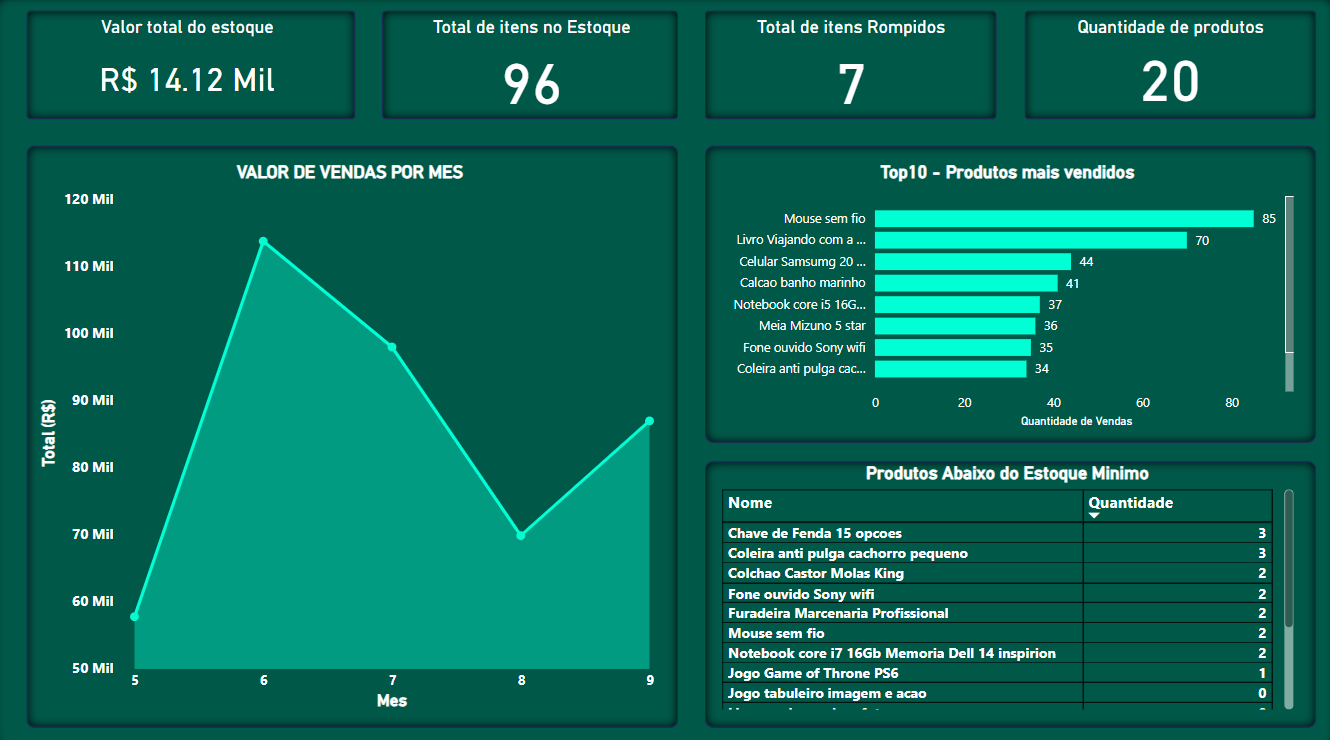

Layout of this report page (visuals, bound fields, positions):
{"tool":"powerbi","page":{"name":"Página 1","canvas":[1280,720],"ordinal":0},"visuals":[{"type":"card","title":"Valor total do estoque","fields":{"Values":["Produtos.total_preco"]},"box":[29.8,20.2,310.6,95.2],"z":0},{"type":"card","title":"Total de itens no Estoque","fields":{"Values":["Produtos.Total_Prod"]},"box":[385.6,20.2,254.7,95.2],"z":1000},{"type":"card","title":"Quantidade de produtos","fields":{"Values":["Count(Produtos.NM_PROD)"]},"box":[998.5,20.2,245.2,89.3],"z":2000},{"type":"areaChart","title":"VALOR DE VENDAS POR MES","fields":{"Category":["Vendas_mes.Mes"],"Y":["Sum(Vendas_mes.Valor_venda)"]},"box":[39.3,158.3,601,527.2],"z":3000},{"type":"card","title":"Total de itens Rompidos","fields":{"Values":["CountNonNull(Produtos.Quantidade)"]},"box":[687.9,20.2,258.2,95.2],"z":4000},{"type":"tableEx","title":"Produtos Abaixo do Estoque Minimo","fields":{"Values":["Produtos.Nome","Produtos.Quantidade"]},"box":[687.9,445.1,555.8,240.4],"z":5000},{"type":"clusteredBarChart","title":"Top10 - Produtos mais vendidos","fields":{"Category":["Produtos.Nome"],"Y":["Sum(Total_vendido.Quantidade_total_vendida)"]},"box":[687.9,158.3,555.8,258.2],"z":6000}]}

Visuals, with their boxes in screenshot pixels (x1, y1, x2, y2), scaled from the page's 1280x720 canvas onto the 1330x740 screenshot:
"Valor total do estoque" card: 31/21/354/119
"Total de itens no Estoque" card: 401/21/665/119
"Quantidade de produtos" card: 1038/21/1292/113
"VALOR DE VENDAS POR MES" areaChart: 41/163/665/705
"Total de itens Rompidos" card: 715/21/983/119
"Produtos Abaixo do Estoque Minimo" tableEx: 715/457/1292/705
"Top10 - Produtos mais vendidos" clusteredBarChart: 715/163/1292/428
